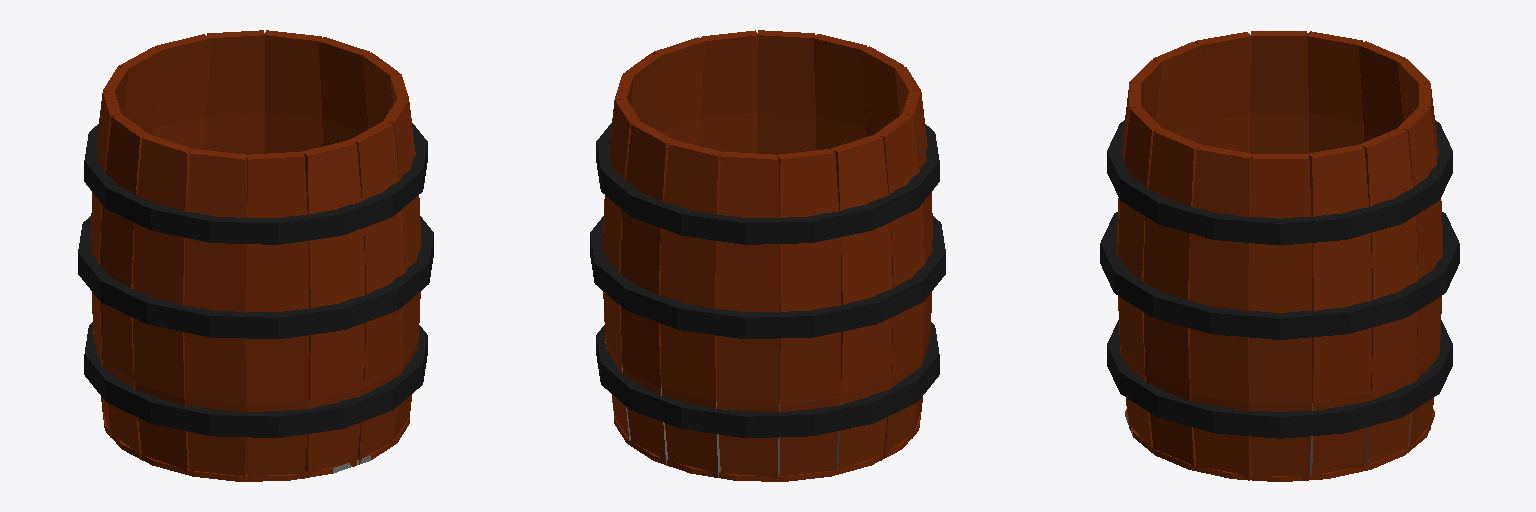
The model's file is barrel.obj.
The picture shows the model from 3 angles: view 1: azimuth 30°, elevation 25°; view 2: azimuth 150°, elevation 25°; view 3: azimuth 270°, elevation 25°; orthographic projection.
Parts seen in each view (by area): view 1: plank16; view 2: plank16; view 3: plank16.
Boxes of the visible parts, <box> form: plank16: <box>78,30,433,481</box>; plank16: <box>590,30,945,481</box>; plank16: <box>1100,31,1459,481</box>.
Size of the model in its own units: 3.03 by 3 by 3.03.